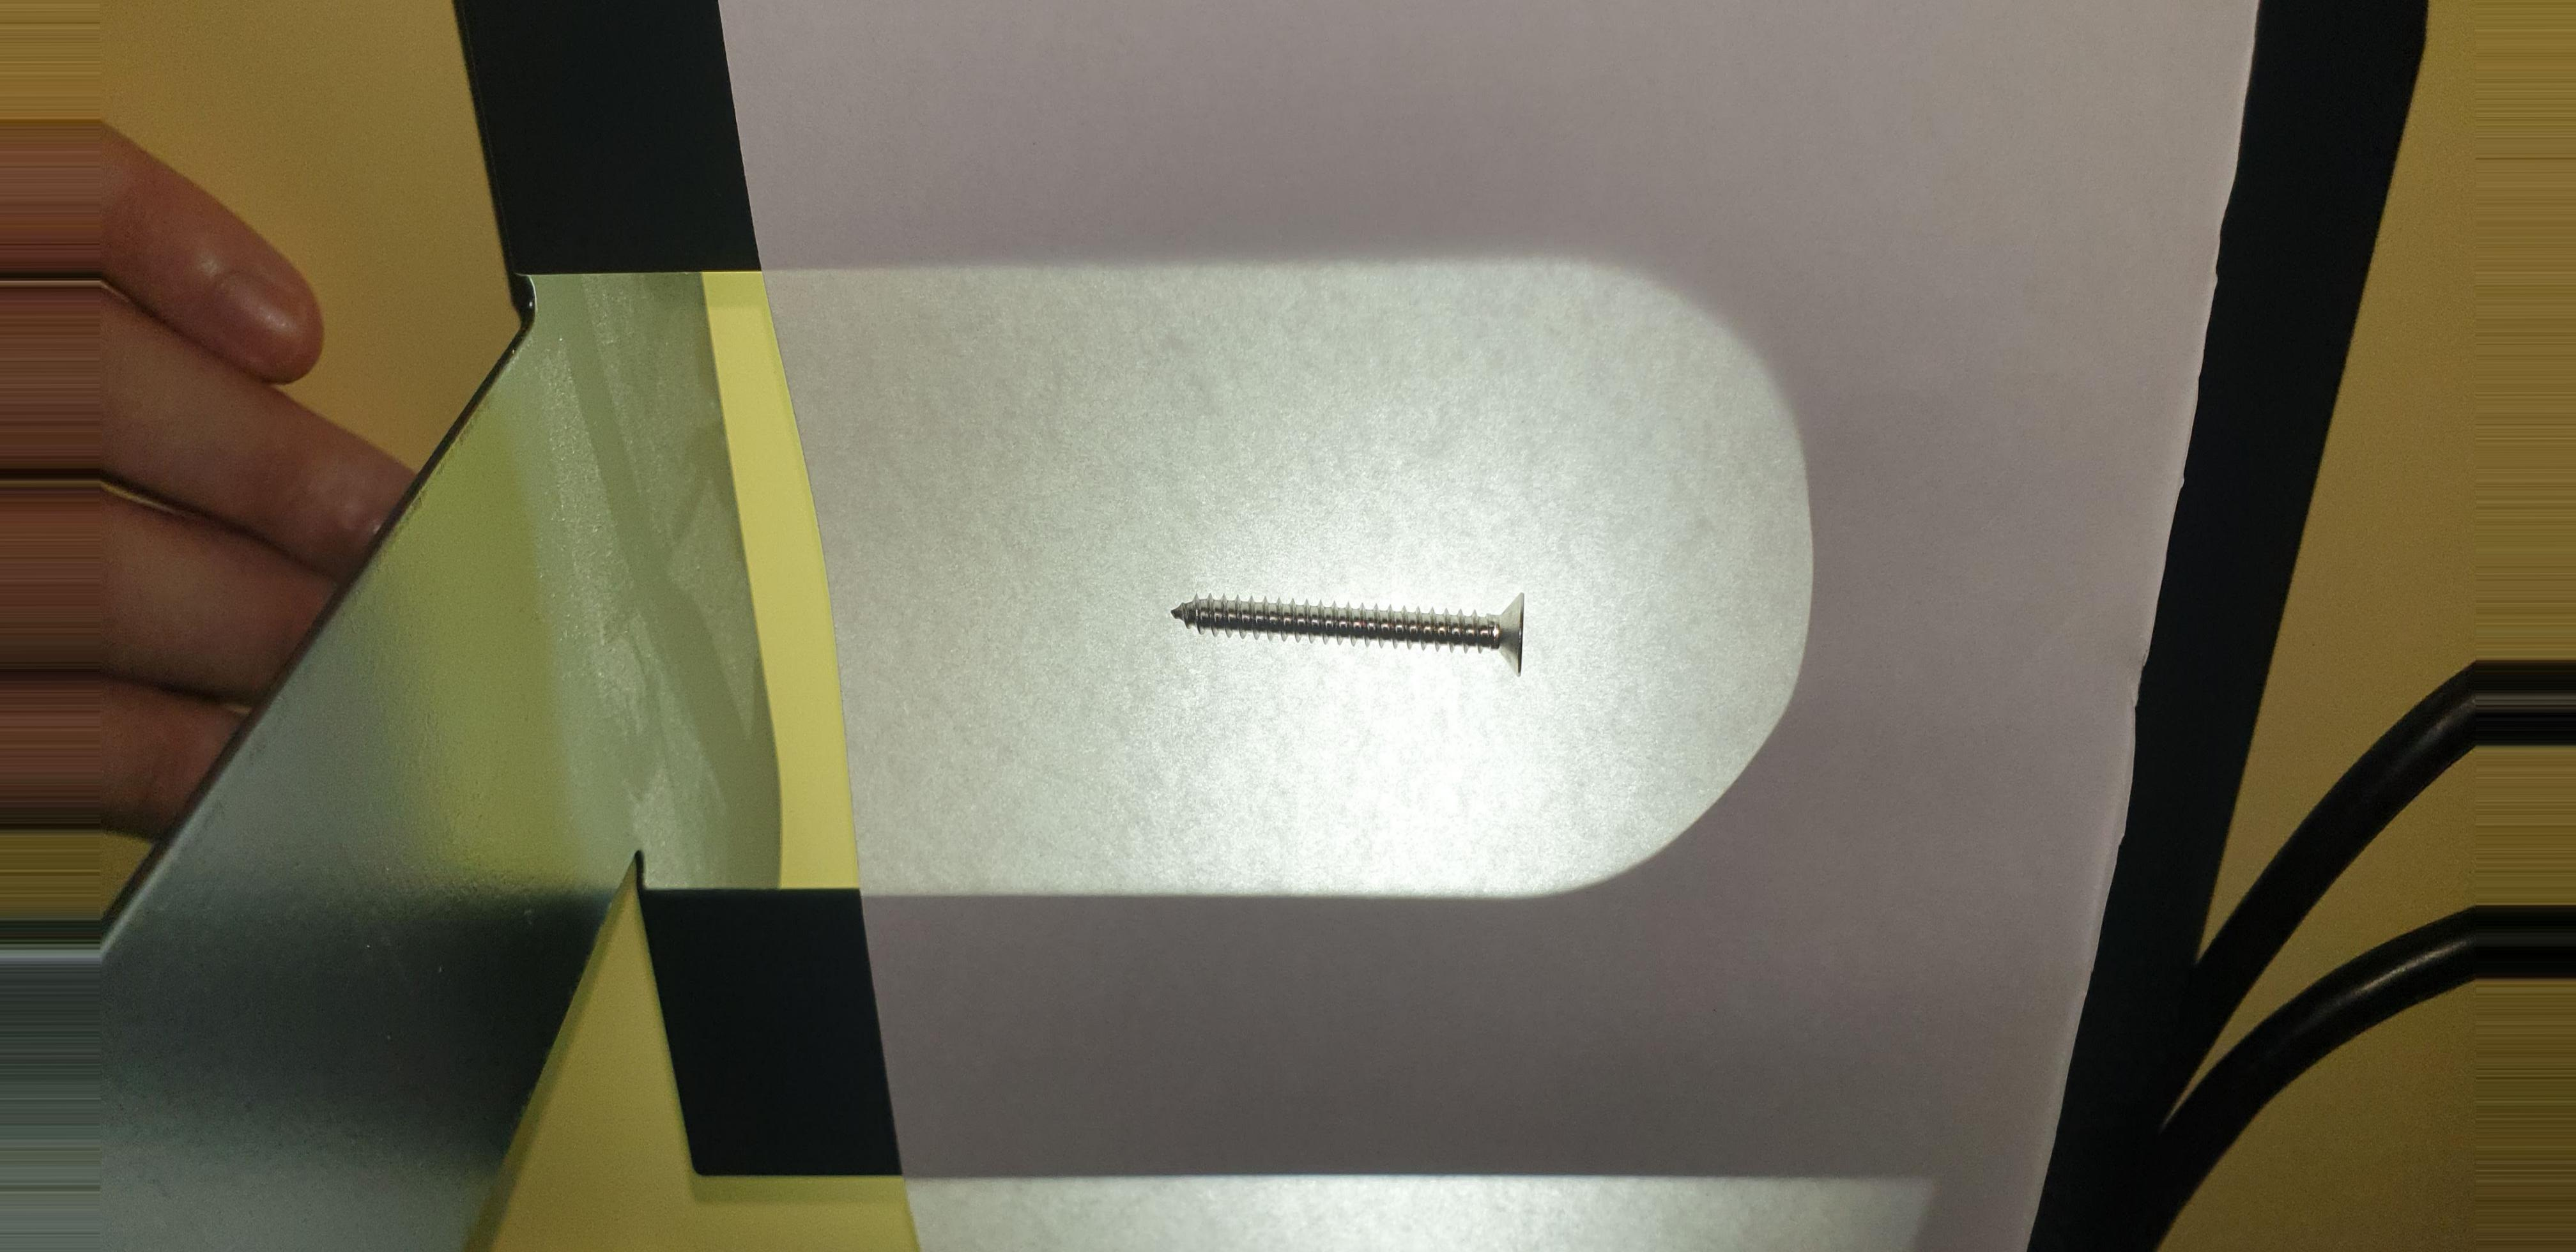fastener: (1124, 529, 1610, 723)
